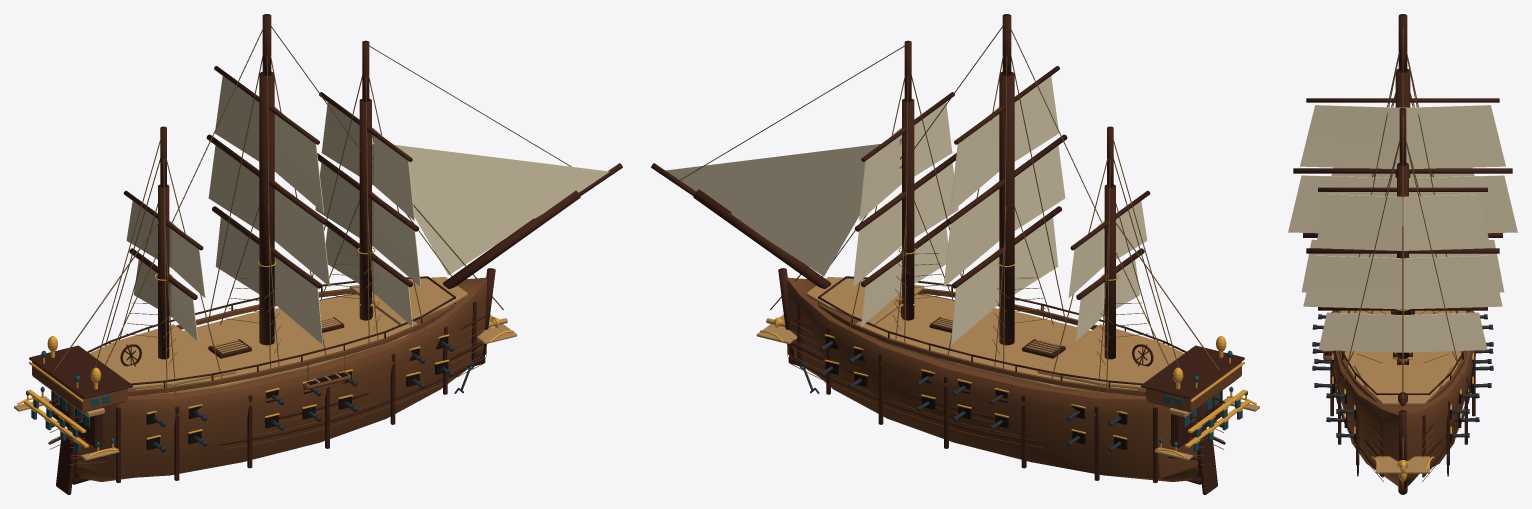
Rendered from AgeOfSailWarship_SecondRate_GalleonRefined.fbx.
The picture shows the model from 3 angles, left to right: view 1: azimuth 30°, elevation 25°; view 2: azimuth 150°, elevation 25°; view 3: azimuth 270°, elevation 25°; orthographic projection. The views are drawn at different scales.
Parts seen in each view (by area): view 1: SecondRate_Hull_Main_Lofted.001, SecondRate_Deck_Upper_Main.001, SecondRate_Jib_Inner.001, SecondRate_Jib_Outer.001, SecondRate_Main_SquareSail_1.001, SecondRate_Main_SquareSail_0.001, SecondRate_Deck_Quarterdeck.001, SecondRate_Main_SquareSail_2.001, SecondRate_Fore_SquareSail_1.001, SecondRate_Main_Mast.001, SecondRate_Fore_SquareSail_0.001, SecondRate_Fore_Mast.001 (+15 smaller); view 2: SecondRate_Hull_Main_Lofted.001, SecondRate_Jib_Inner.001, SecondRate_Deck_Upper_Main.001, SecondRate_Jib_Outer.001, SecondRate_Main_SquareSail_1.001, SecondRate_Main_SquareSail_0.001, SecondRate_Deck_Quarterdeck.001, SecondRate_Main_SquareSail_2.001, SecondRate_Fore_SquareSail_1.001, SecondRate_Main_Mast.001, SecondRate_Fore_SquareSail_0.001, SecondRate_Fore_Mast.001 (+15 smaller); view 3: SecondRate_Main_SquareSail_0.001, SecondRate_Fore_SquareSail_1.001, SecondRate_Fore_SquareSail_0.001, SecondRate_Hull_Main_Lofted.001, SecondRate_Fore_SquareSail_2.001, SecondRate_Main_SquareSail_1.001, SecondRate_Deck_Forecastle.001, SecondRate_Deck_Upper_Main.001, SecondRate_Main_SquareSail_2.001, SecondRate_Main_Yard_1.001, SecondRate_Fore_Yard_1.001, SecondRate_Main_Yard_0.001 (+15 smaller).
Part boxes in pixels (left/top/right/bottom): SecondRate_Hull_Main_Lofted.001: left=76, top=277, right=486, bottom=481; SecondRate_Deck_Upper_Main.001: left=136, top=294, right=417, bottom=394; SecondRate_Jib_Inner.001: left=372, top=138, right=533, bottom=275; SecondRate_Jib_Outer.001: left=372, top=142, right=609, bottom=218; SecondRate_Main_SquareSail_1.001: left=208, top=145, right=330, bottom=286; SecondRate_Main_SquareSail_0.001: left=215, top=76, right=323, bottom=212; SecondRate_Deck_Quarterdeck.001: left=89, top=324, right=236, bottom=389; SecondRate_Main_SquareSail_2.001: left=215, top=217, right=323, bottom=344; SecondRate_Fore_SquareSail_1.001: left=315, top=163, right=420, bottom=286; SecondRate_Main_Mast.001: left=259, top=71, right=274, bottom=345; SecondRate_Fore_SquareSail_0.001: left=321, top=102, right=414, bottom=220; SecondRate_Fore_Mast.001: left=359, top=98, right=371, bottom=320; SecondRate_Hull_Main_Lofted.001: left=787, top=277, right=1197, bottom=481; SecondRate_Jib_Inner.001: left=731, top=138, right=901, bottom=276; SecondRate_Deck_Upper_Main.001: left=856, top=294, right=1137, bottom=394; SecondRate_Jib_Outer.001: left=665, top=144, right=880, bottom=212; SecondRate_Main_SquareSail_1.001: left=943, top=145, right=1065, bottom=286; SecondRate_Main_SquareSail_0.001: left=950, top=76, right=1058, bottom=212; SecondRate_Deck_Quarterdeck.001: left=1037, top=324, right=1184, bottom=389; SecondRate_Main_SquareSail_2.001: left=950, top=217, right=1058, bottom=344; SecondRate_Fore_SquareSail_1.001: left=853, top=163, right=958, bottom=286; SecondRate_Main_Mast.001: left=999, top=71, right=1014, bottom=345; SecondRate_Fore_SquareSail_0.001: left=859, top=102, right=952, bottom=220; SecondRate_Fore_Mast.001: left=902, top=98, right=914, bottom=320; SecondRate_Main_SquareSail_0.001: left=1300, top=105, right=1505, bottom=169; SecondRate_Fore_SquareSail_1.001: left=1303, top=255, right=1502, bottom=309; SecondRate_Fore_SquareSail_0.001: left=1315, top=194, right=1490, bottom=250; SecondRate_Hull_Main_Lofted.001: left=1332, top=310, right=1475, bottom=490; SecondRate_Fore_SquareSail_2.001: left=1318, top=312, right=1487, bottom=352; SecondRate_Main_SquareSail_1.001: left=1288, top=175, right=1517, bottom=233; SecondRate_Deck_Forecastle.001: left=1354, top=365, right=1451, bottom=405; SecondRate_Deck_Upper_Main.001: left=1339, top=310, right=1466, bottom=385; SecondRate_Main_SquareSail_2.001: left=1301, top=239, right=1504, bottom=292; SecondRate_Main_Yard_1.001: left=1293, top=168, right=1512, bottom=173; SecondRate_Fore_Yard_1.001: left=1306, top=248, right=1499, bottom=253; SecondRate_Main_Yard_0.001: left=1306, top=98, right=1499, bottom=102.
Size of the model in its own units: 3264 by 2326 by 1197.
